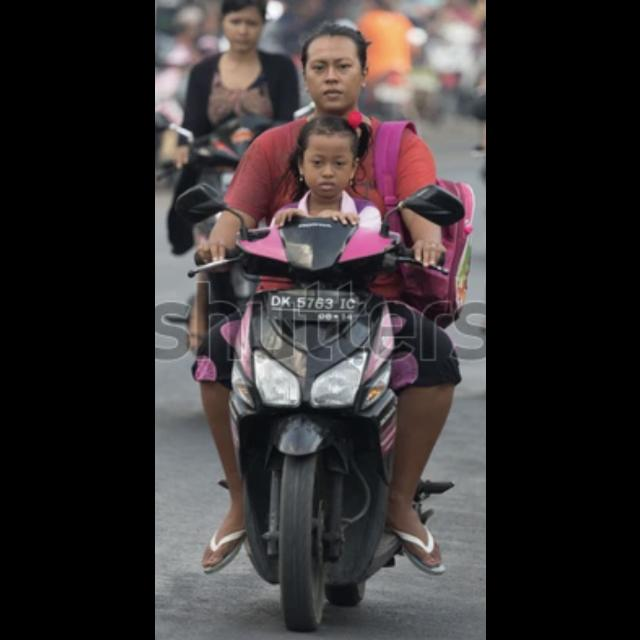without helmet: (298, 21, 369, 113), (289, 116, 366, 200)
